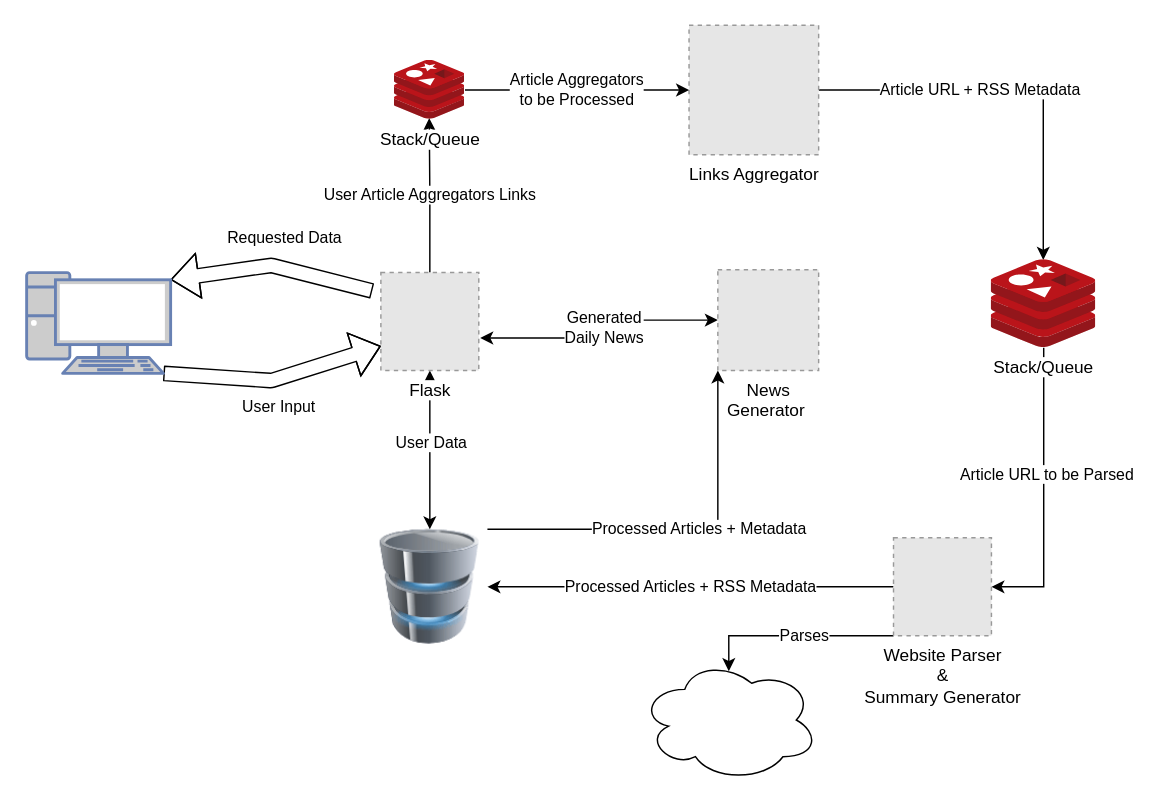
The diagram is 1162 pixels wide and 806 high, and some of its shapes have lost their labels. Grey dashed boxes stand in for pictures. Each missing label, with the box of its shape:
Client: (24, 270, 171, 374)
Database: (372, 528, 487, 644)
Internet: (639, 657, 819, 781)
